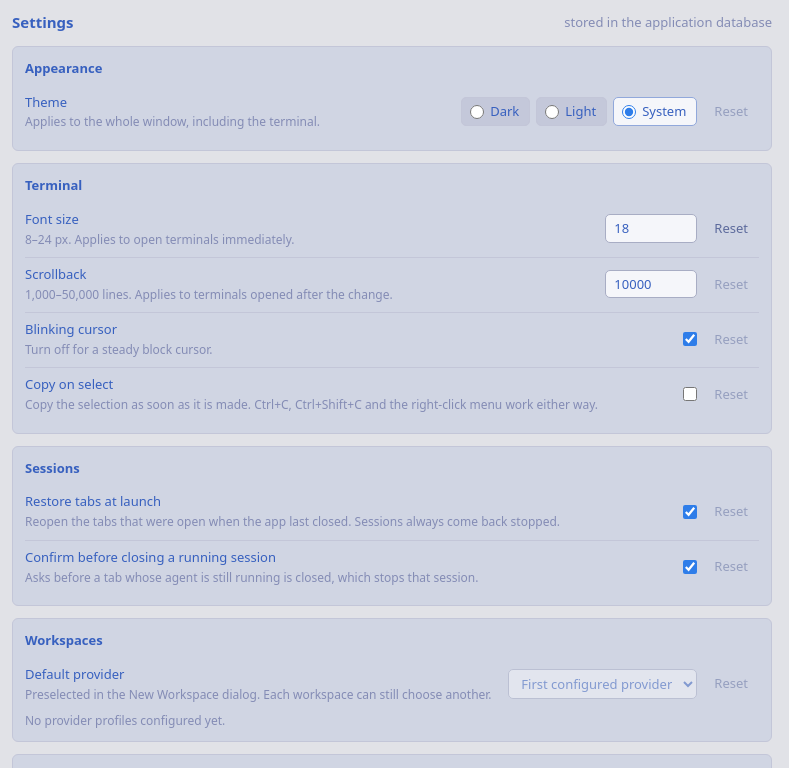
it: SettingsPanel: writing a setting › puts the stored value back when the field is left unusable
This screenshot has width=789, height=768.
Check: the text "stored in the application database" is shown, box [564,14,772,32]
Clear the number field named "Font size in pixels" at (651, 229), box [605,214,697,243]
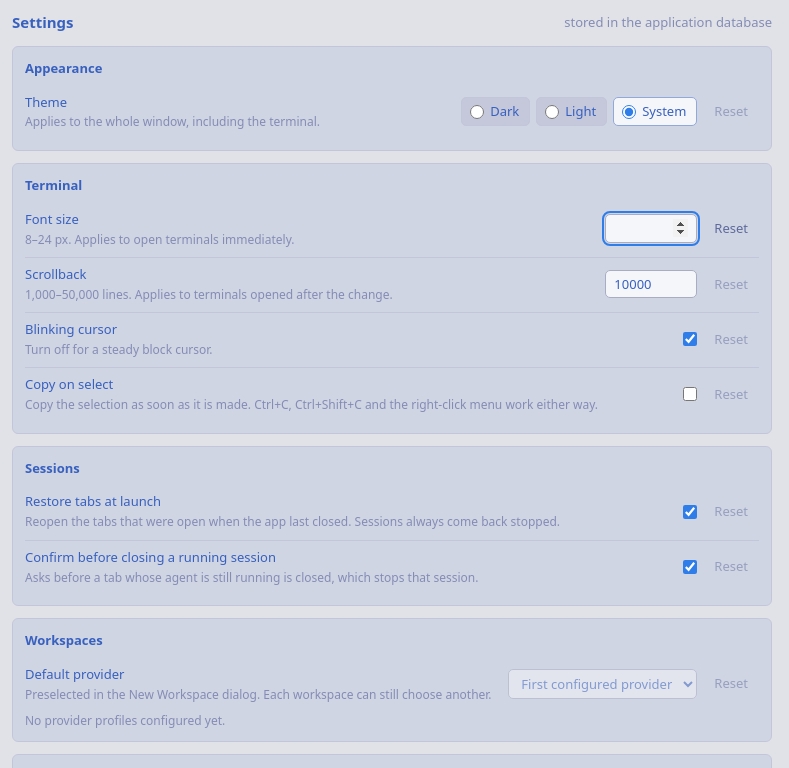
Press Tab
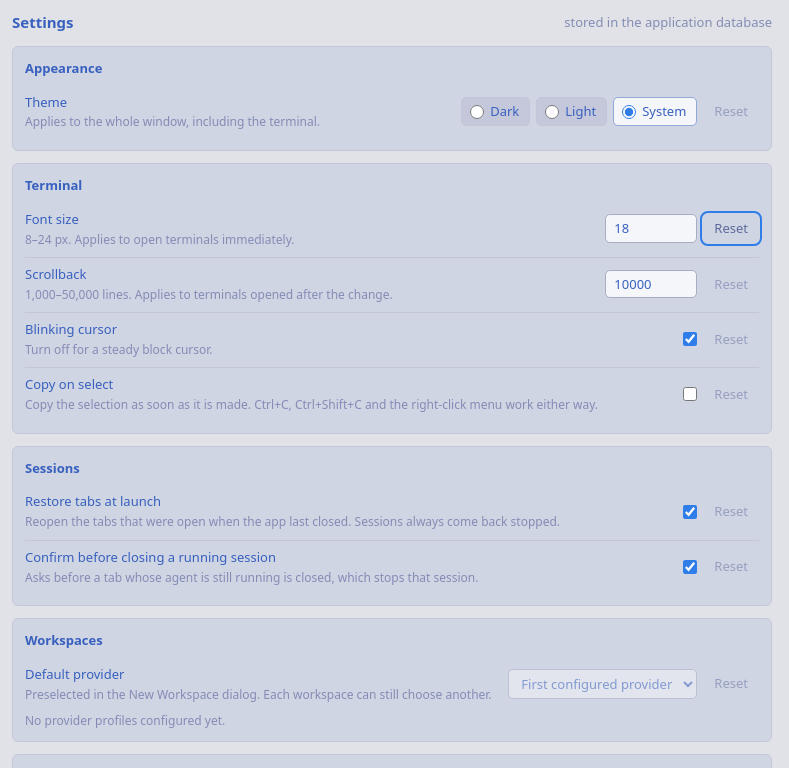
Check: the number field named "Font size in pixels" holds "18", box [605,214,697,243]
